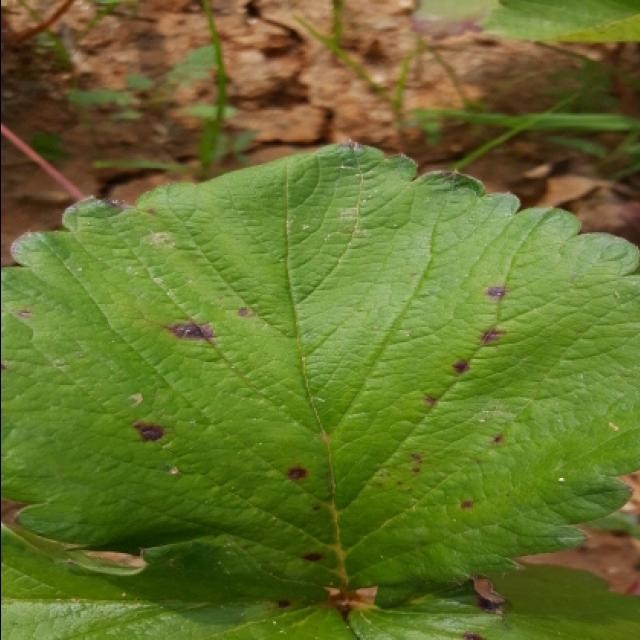Leaf Spot: (2, 140, 640, 598), (2, 519, 349, 640), (347, 560, 640, 638)
